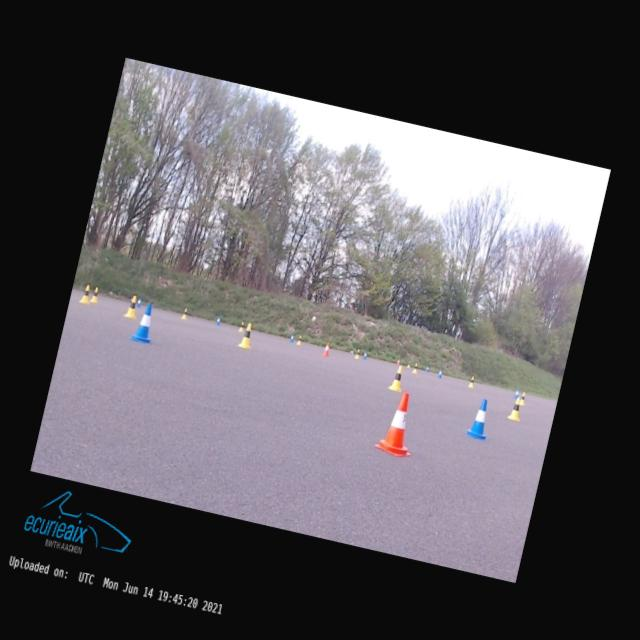blue_cone: (464, 396, 496, 441), (128, 301, 158, 344), (214, 314, 222, 324), (436, 368, 443, 378), (136, 296, 142, 307), (513, 387, 519, 398), (288, 332, 294, 342), (362, 350, 368, 359), (424, 364, 430, 372)
orange_cone: (373, 388, 424, 459), (322, 340, 332, 356), (396, 357, 400, 365)
yellow_cone: (237, 321, 256, 349), (388, 364, 406, 392), (506, 396, 524, 420), (124, 294, 140, 319), (78, 284, 92, 304), (89, 286, 100, 302), (519, 391, 526, 405), (468, 376, 476, 388), (181, 307, 188, 319), (238, 322, 245, 332), (296, 335, 303, 345), (354, 348, 361, 358), (412, 363, 418, 373), (406, 360, 411, 368)
